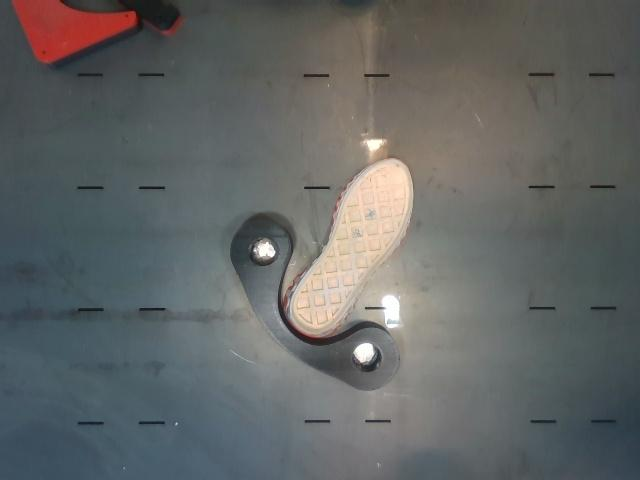shoes: (291, 161, 412, 333)
